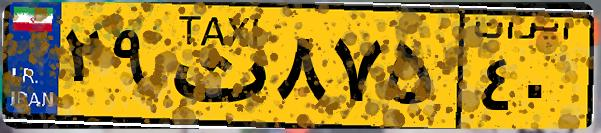0: (525, 38, 570, 115)
2: (57, 26, 110, 100)
4: (475, 38, 525, 113)
5: (385, 28, 445, 110)
7: (330, 28, 385, 110)
8: (270, 28, 330, 110)
9: (110, 28, 158, 98)
ت: (158, 12, 270, 120)
